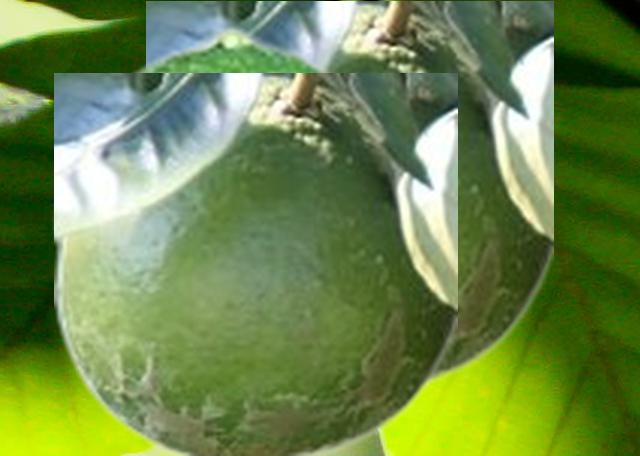dalandan: (146, 1, 552, 386), (54, 73, 456, 454), (49, 24, 343, 281)
